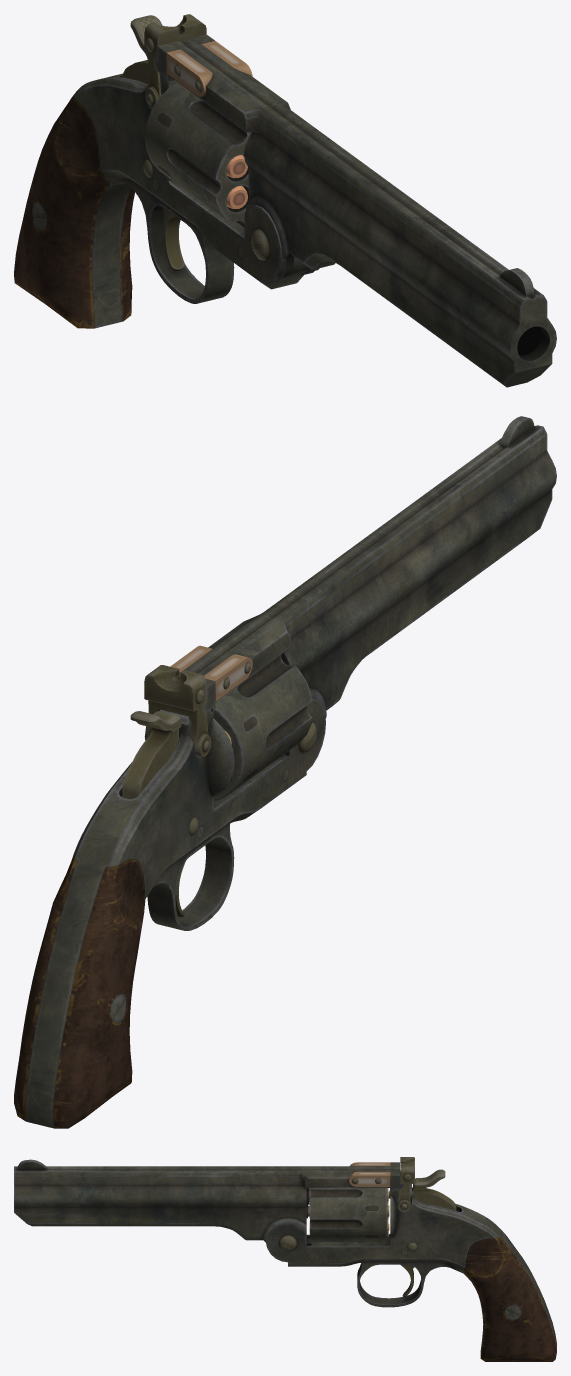
3 renders of one model, top to bottom at view 1: azimuth 30°, elevation 25°; view 2: azimuth 150°, elevation 25°; view 3: azimuth 270°, elevation 25°, orthographic. The views are drawn at different scales.
Parts seen in each view (by area): view 1: revolver; view 2: revolver; view 3: revolver.
Part boxes in pixels (<box>): revolver: <box>14,14,556,387</box>; revolver: <box>14,416,556,1128</box>; revolver: <box>14,1157,556,1361</box>.
Size of the model in its own units: 0.1103 by 0.3762 by 0.9508.
Materials: 1 (1 with a texture image).
